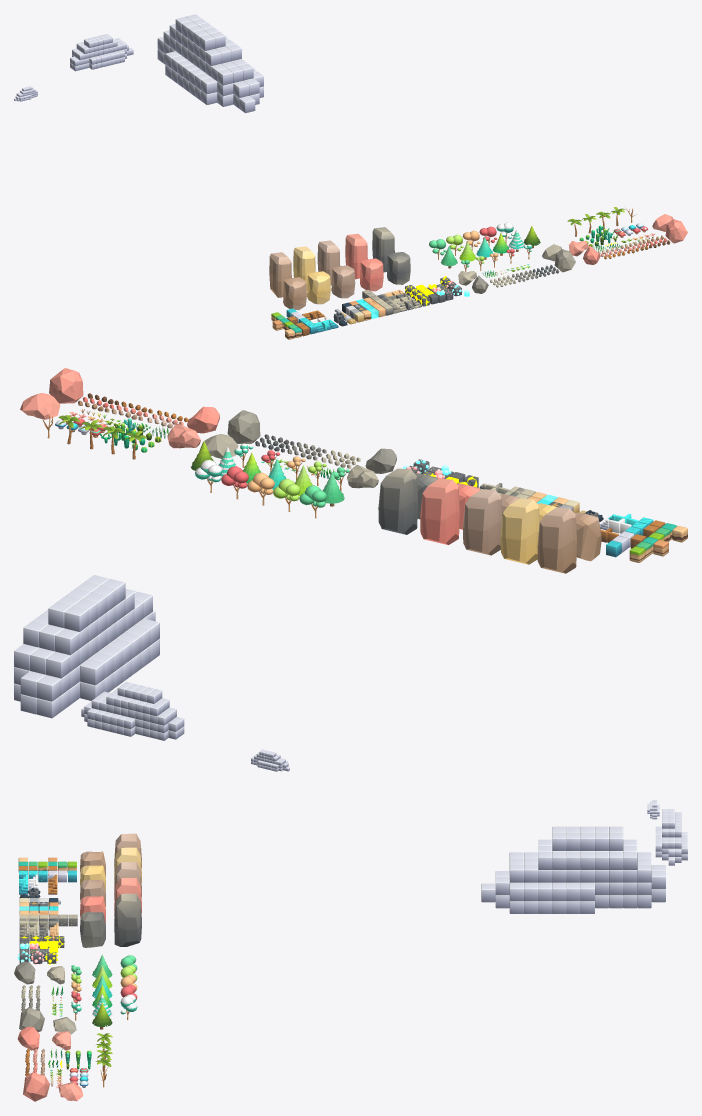
The model's file is Nature_Assets.glb.
The picture shows the model from 3 angles, top to bottom: view 1: azimuth 30°, elevation 25°; view 2: azimuth 150°, elevation 25°; view 3: azimuth 270°, elevation 25°; orthographic projection. The views are drawn at different scales.
Parts seen in each view (by area): view 1: Cloud_Large_01_Mesh, Cloud_Medium_01_Mesh, Rock_Pillar_Tan_Tall_01_Mesh, Rock_Pillar_Coral_Tall_01_Mesh, Rock_Pillar_Gray_Tall_01_Mesh, Rock_Pillar_Yellow_Short_01_Mesh, Rock_Pillar_Brown_Short_01_Mesh, Rock_Pillar_Gray_Short_01_Mesh, Rock_Pillar_Coral_Short_01_Mesh, Rock_Pillar_Tan_Short_01_Mesh, Rock_Pillar_Yellow_Tall_01_Mesh, Rock_Pillar_Brown_Tall_01_Mesh; view 2: Cloud_Large_01_Mesh, Cloud_Medium_01_Mesh, Rock_Pillar_Tan_Tall_01_Mesh, Rock_Pillar_Coral_Tall_01_Mesh, Rock_Pillar_Gray_Tall_01_Mesh, Rock_Pillar_Brown_Tall_01_Mesh, Rock_Pillar_Yellow_Tall_01_Mesh, Rock_Pillar_Tan_Short_01_Mesh, Rock_Boulder_Coral_04_Mesh, Rock_Boulder_Gray_04_Mesh, Rock_Boulder_Coral_03_Mesh, Rock_Boulder_Coral_01_Mesh (+1 smaller); view 3: Cloud_Large_01_Mesh, Cloud_Medium_01_Mesh, Rock_Pillar_Gray_Tall_01_Mesh, Rock_Pillar_Gray_Short_01_Mesh, Rock_Boulder_Coral_04_Mesh, Rock_Pillar_Brown_Tall_01_Mesh, Rock_Pillar_Coral_Tall_01_Mesh, Rock_Boulder_Gray_04_Mesh.
Part boxes in pixels (x1,y1,x2,y2): Cloud_Large_01_Mesh: (157, 14, 263, 113); Cloud_Medium_01_Mesh: (70, 34, 133, 71); Rock_Pillar_Tan_Tall_01_Mesh: (269, 252, 291, 297); Rock_Pillar_Coral_Tall_01_Mesh: (345, 233, 367, 279); Rock_Pillar_Gray_Tall_01_Mesh: (372, 227, 394, 272); Rock_Pillar_Yellow_Short_01_Mesh: (307, 271, 330, 304); Rock_Pillar_Brown_Short_01_Mesh: (331, 265, 355, 298); Rock_Pillar_Gray_Short_01_Mesh: (387, 252, 410, 284); Rock_Pillar_Coral_Short_01_Mesh: (360, 258, 383, 291); Rock_Pillar_Tan_Short_01_Mesh: (283, 277, 306, 310); Rock_Pillar_Yellow_Tall_01_Mesh: (293, 246, 315, 290); Rock_Pillar_Brown_Tall_01_Mesh: (317, 240, 340, 285); Cloud_Large_01_Mesh: (14, 575, 159, 718); Cloud_Medium_01_Mesh: (81, 681, 184, 740); Rock_Pillar_Tan_Tall_01_Mesh: (537, 507, 576, 573); Rock_Pillar_Coral_Tall_01_Mesh: (420, 478, 459, 544); Rock_Pillar_Gray_Tall_01_Mesh: (378, 468, 417, 534); Rock_Pillar_Brown_Tall_01_Mesh: (463, 489, 502, 555); Rock_Pillar_Yellow_Tall_01_Mesh: (500, 498, 539, 564); Rock_Pillar_Tan_Short_01_Mesh: (574, 512, 601, 561); Rock_Boulder_Coral_04_Mesh: (49, 368, 83, 403); Rock_Boulder_Gray_04_Mesh: (227, 410, 260, 443); Rock_Boulder_Coral_03_Mesh: (20, 393, 60, 419); Rock_Boulder_Coral_01_Mesh: (187, 406, 219, 433); Cloud_Large_01_Mesh: (481, 826, 665, 913); Cloud_Medium_01_Mesh: (655, 809, 687, 865); Rock_Pillar_Gray_Tall_01_Mesh: (114, 893, 141, 946); Rock_Pillar_Gray_Short_01_Mesh: (80, 911, 105, 947); Rock_Boulder_Coral_04_Mesh: (23, 1072, 49, 1101); Rock_Pillar_Brown_Tall_01_Mesh: (114, 861, 141, 900); Rock_Pillar_Coral_Tall_01_Mesh: (114, 877, 141, 916); Rock_Boulder_Gray_04_Mesh: (19, 1008, 44, 1032).
Size of the model in its own units: 29.23 by 7.04 by 34.4.
Materials: 3 (3 with a texture image).
